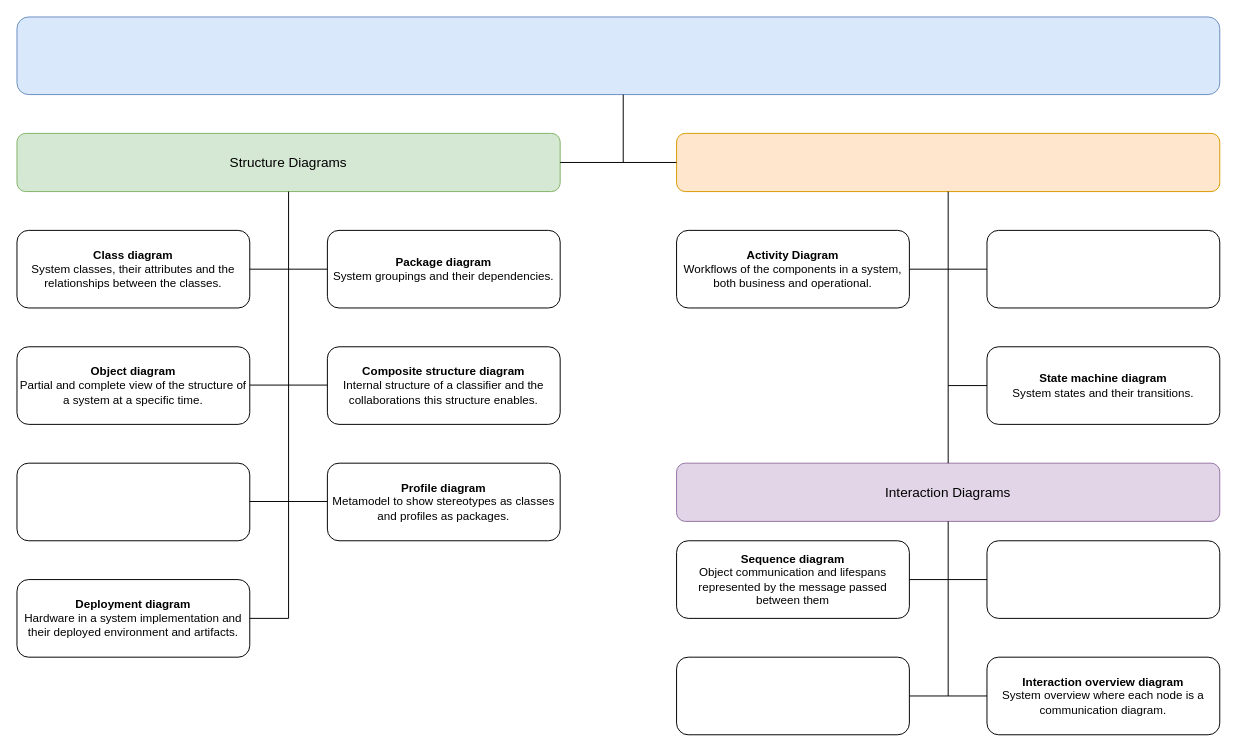
Image size: 1237x752. Some labels were removed from this diagram. The centre of each missing label's shape, as x and y in pixels:
Behaviour Diagrams: point 948,162
Communication diagram Object interaction represented by sequenced messages.: point 1103,579
Component diagram Components and their dependencies in a software system.: point 133,501
Timing diagram Timing constraints within a system: point 792,695
UML Diagrams: point 618,55
Use case diagram System functionality showing actors, goals and dependencies.: point 1103,268
